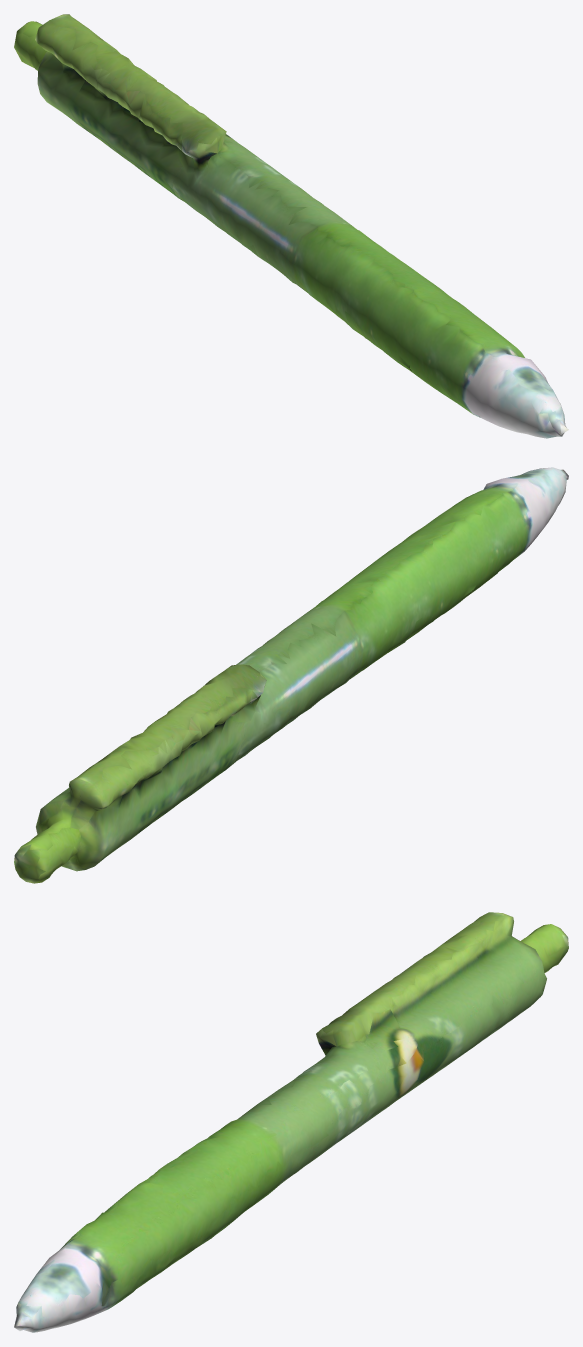
File: scan_align.obj
3 views of the same model, one above another, from view 1: azimuth 30°, elevation 25°; view 2: azimuth 150°, elevation 25°; view 3: azimuth 330°, elevation 25° (orthographic).
Bounding box in the file's own units: 0.0118 × 0.0145 × 0.1473.
Materials: 1 (1 with a texture image).
